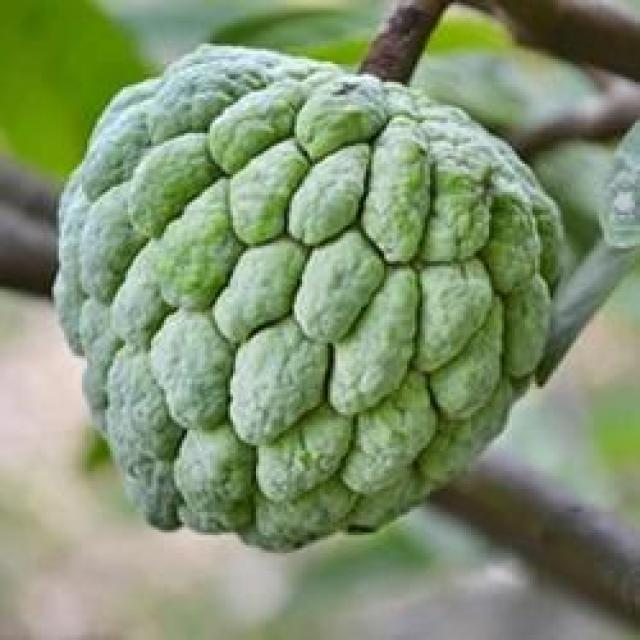apple: (46, 26, 586, 563)
